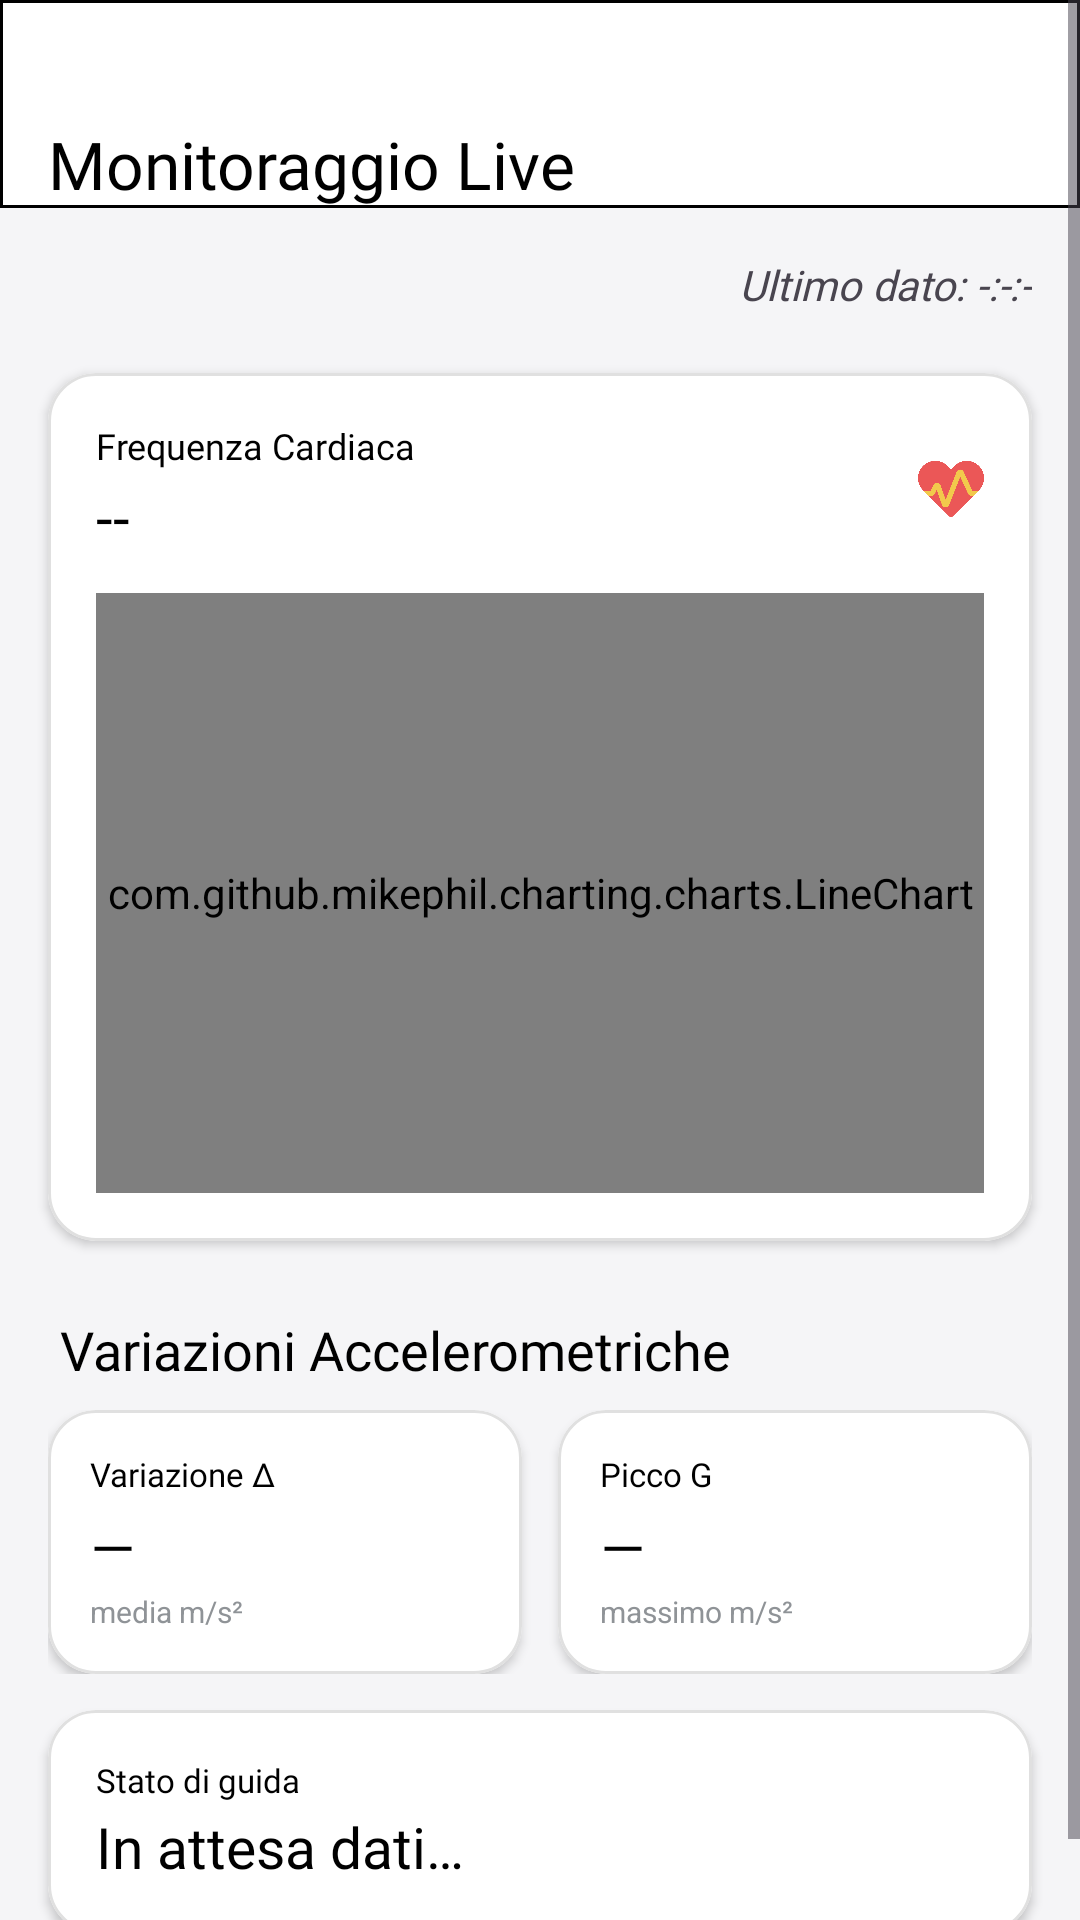

Icons on this 1080px×1920px Android screen, each with its box as box=[x1, y1, x2, y2]:
beat heart: box=[918, 461, 984, 517]
